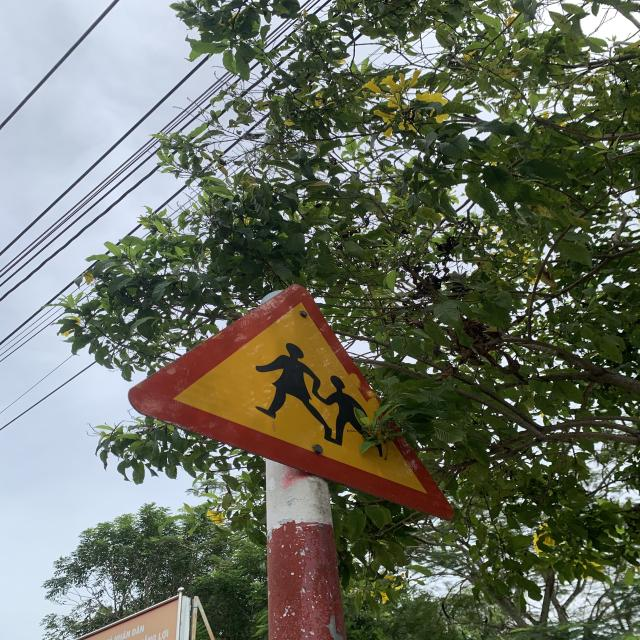Vong_Xuyen: (130, 283, 456, 521)
